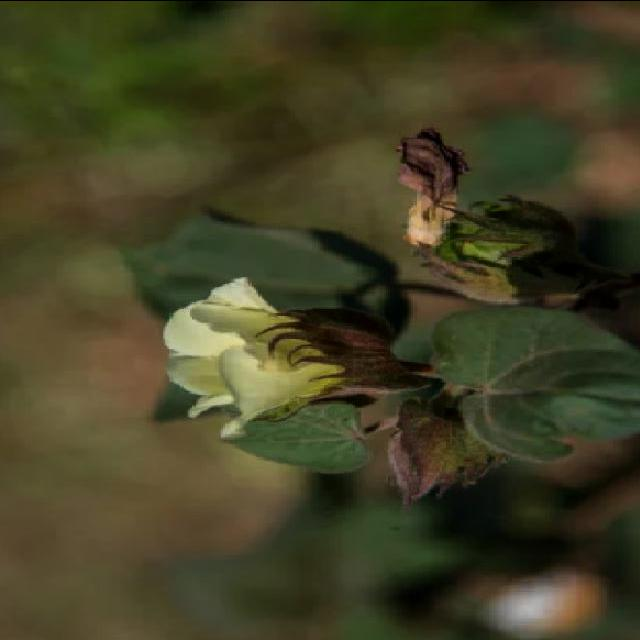Cotton Blossom: (158, 272, 406, 434)
Early Boll: (390, 124, 592, 306), (376, 400, 496, 510)
